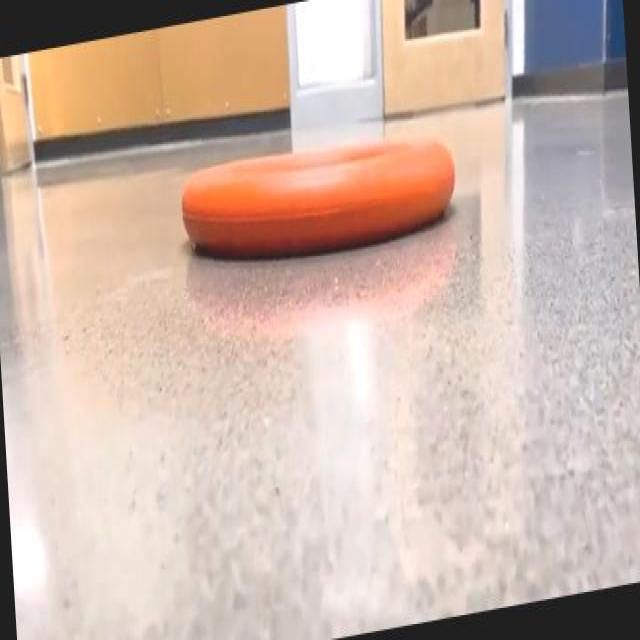note: (182, 138, 454, 255)
